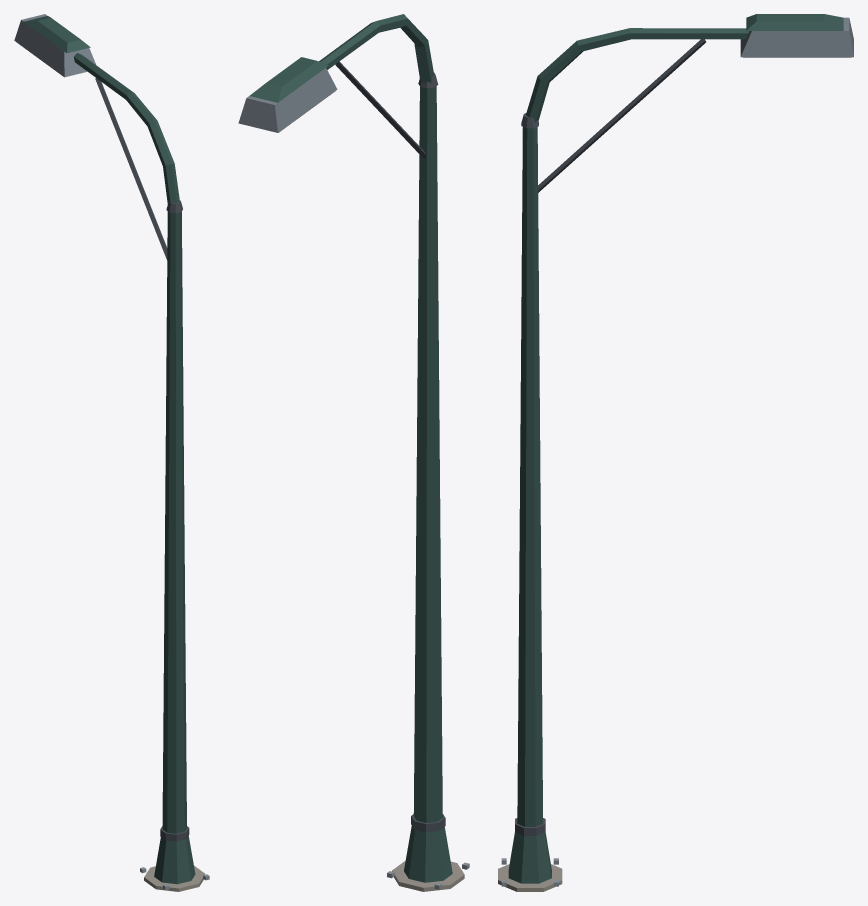
File: highway_lamp.glb
3 views of the same model, side by side, from view 1: azimuth 30°, elevation 25°; view 2: azimuth 150°, elevation 25°; view 3: azimuth 270°, elevation 25° (orthographic). The views are drawn at different scales.
Visible parts, largest first — view 1: Body; view 2: Body; view 3: Body.
Part boxes in pixels (<box>): Body: <box>14,14,209,891</box>; Body: <box>238,14,469,891</box>; Body: <box>498,14,853,891</box>.
Size of the model in its own units: 0.7391 by 10.9 by 4.09.
